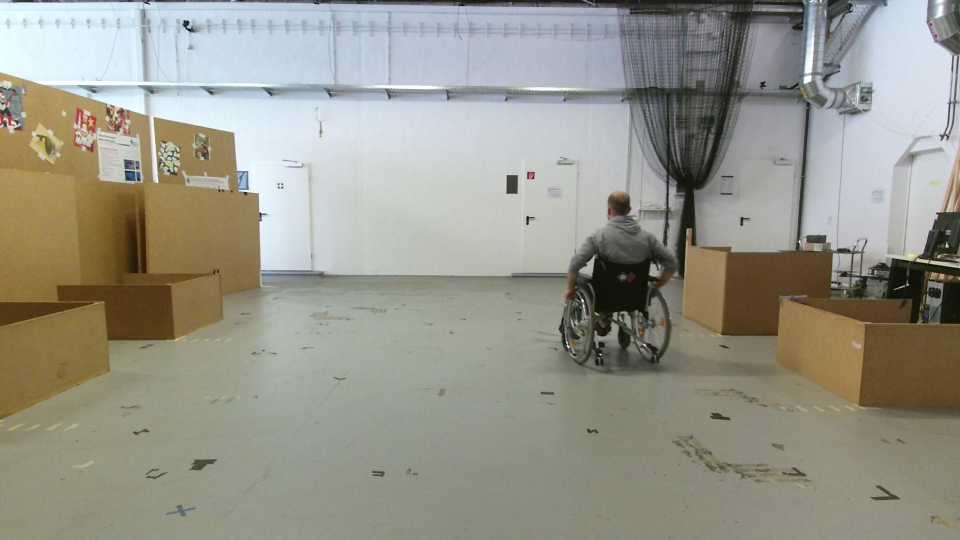wheelchair: (552, 185, 688, 373)
